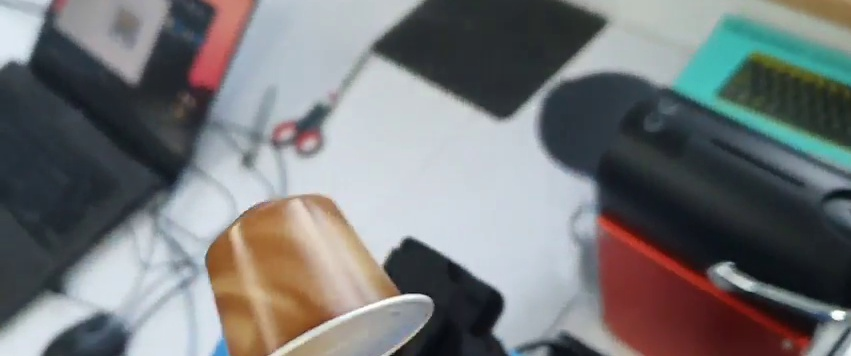capsule_12: (204, 193, 435, 356)
